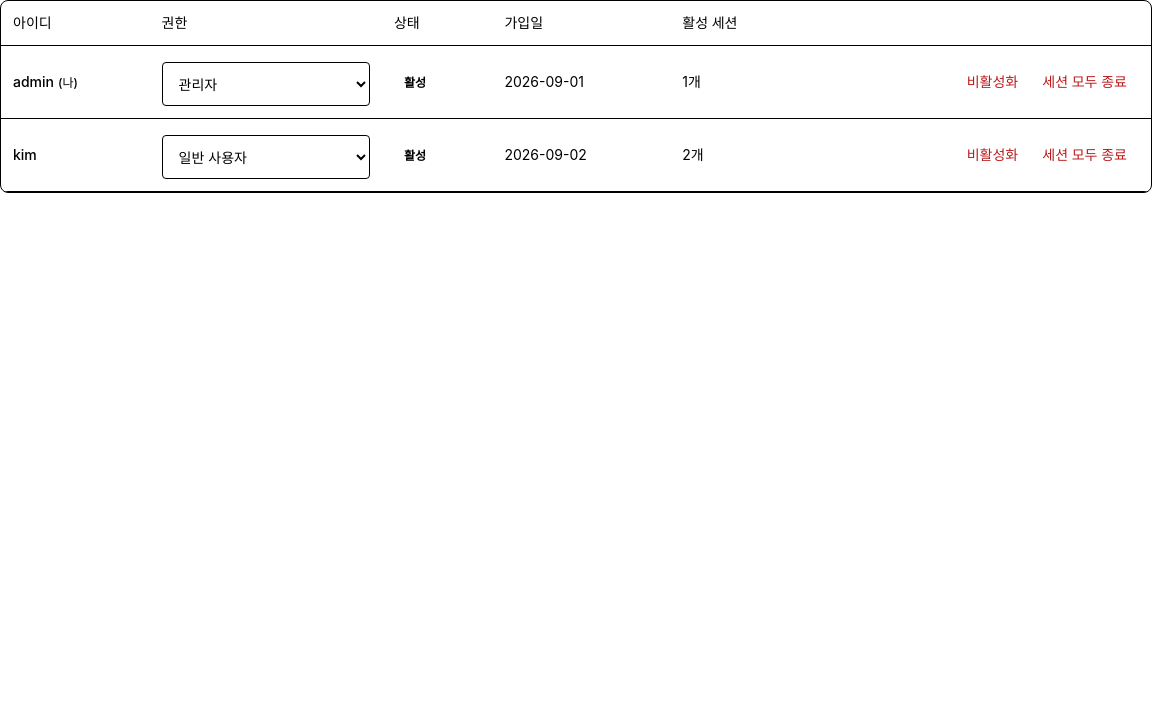
Test: UsersTable › 비활성화는 is_active:false 로, 취소하면 부르지 않는다
This screenshot has width=1152, height=720.
Click the button "비활성화" in the row of "kim".
click(992, 155)  # box x1=955 y1=133 x2=1030 y2=177
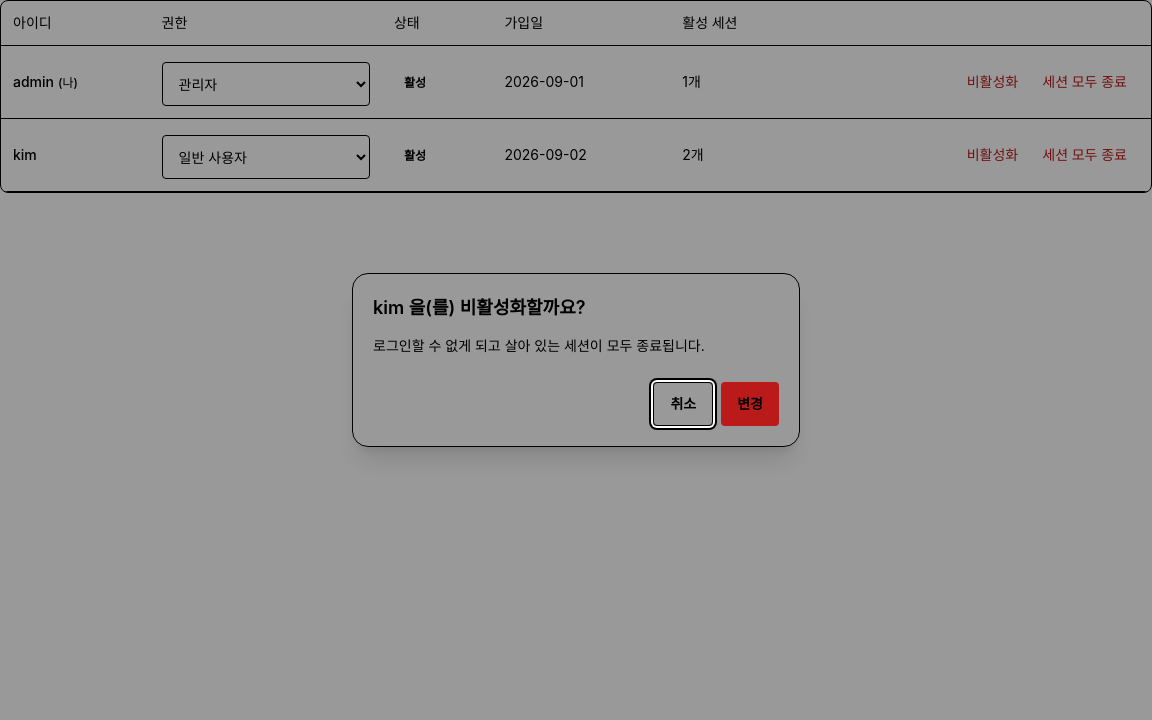
Click the button "취소".
click(683, 404)  # box x1=654 y1=382 x2=713 y2=426
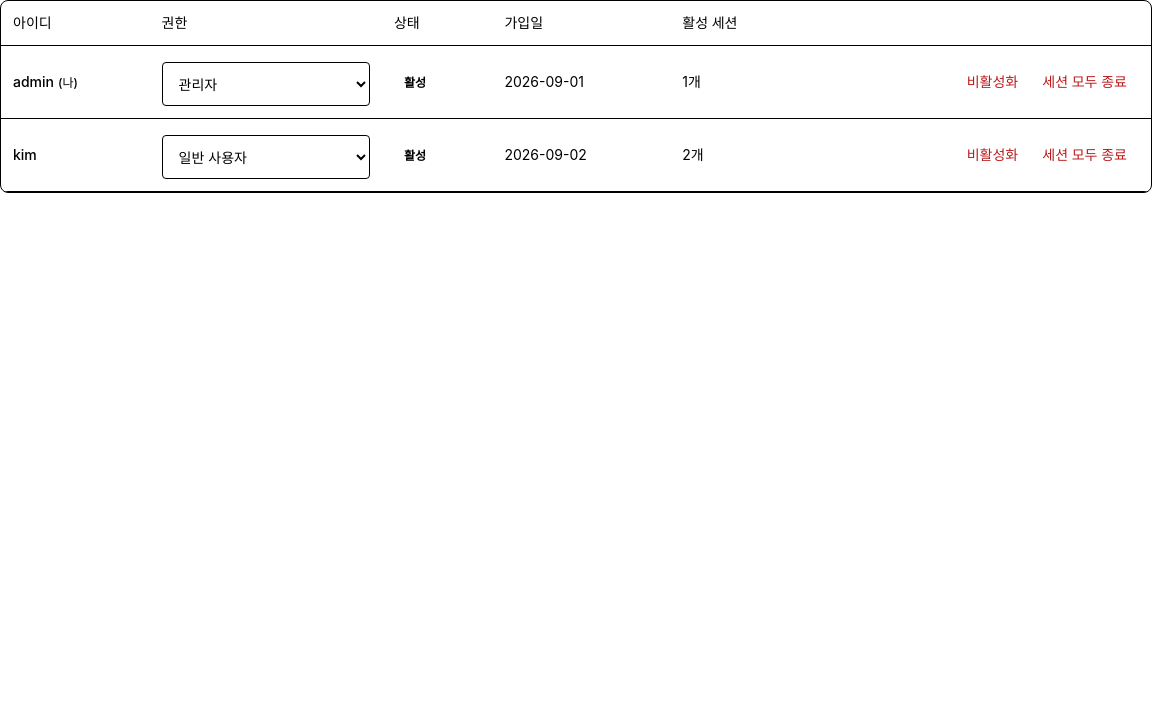
Click the button "비활성화" in the row of "kim".
click(992, 155)  # box x1=955 y1=133 x2=1030 y2=177
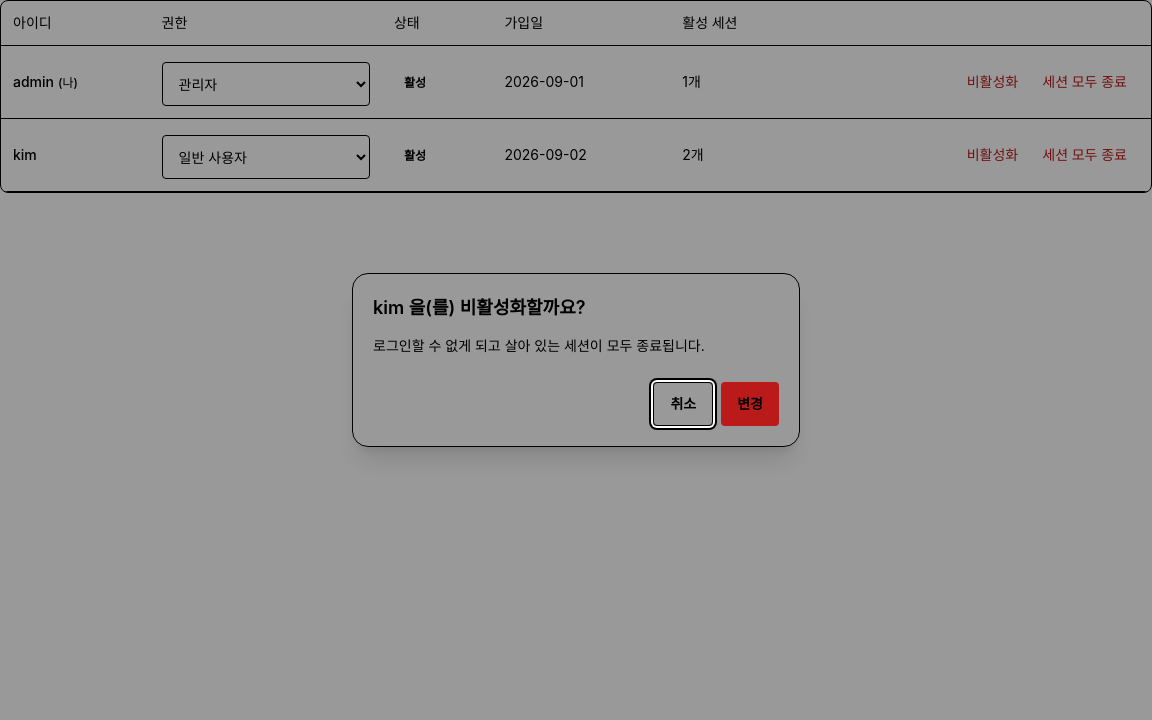
Click the button "변경".
click(750, 404)  # box x1=721 y1=382 x2=779 y2=426
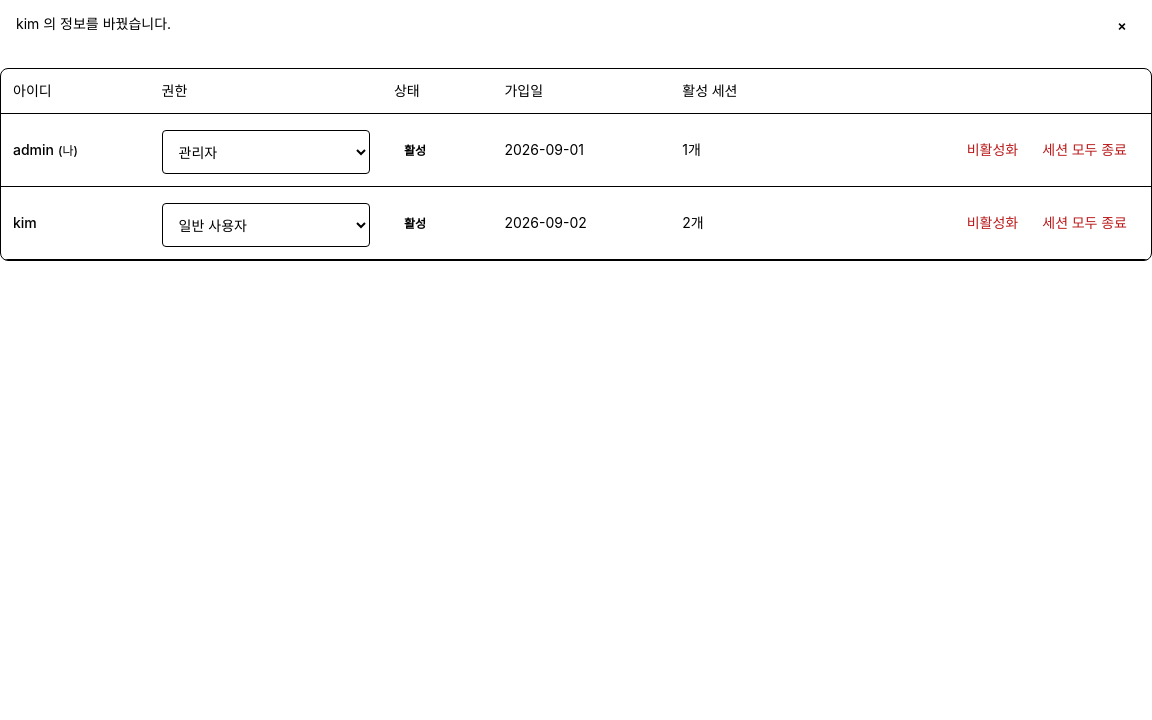
Check: the text "kim 의 정보를 바꿨습니다." is shown, box x1=16 y1=12 x2=171 y2=34
